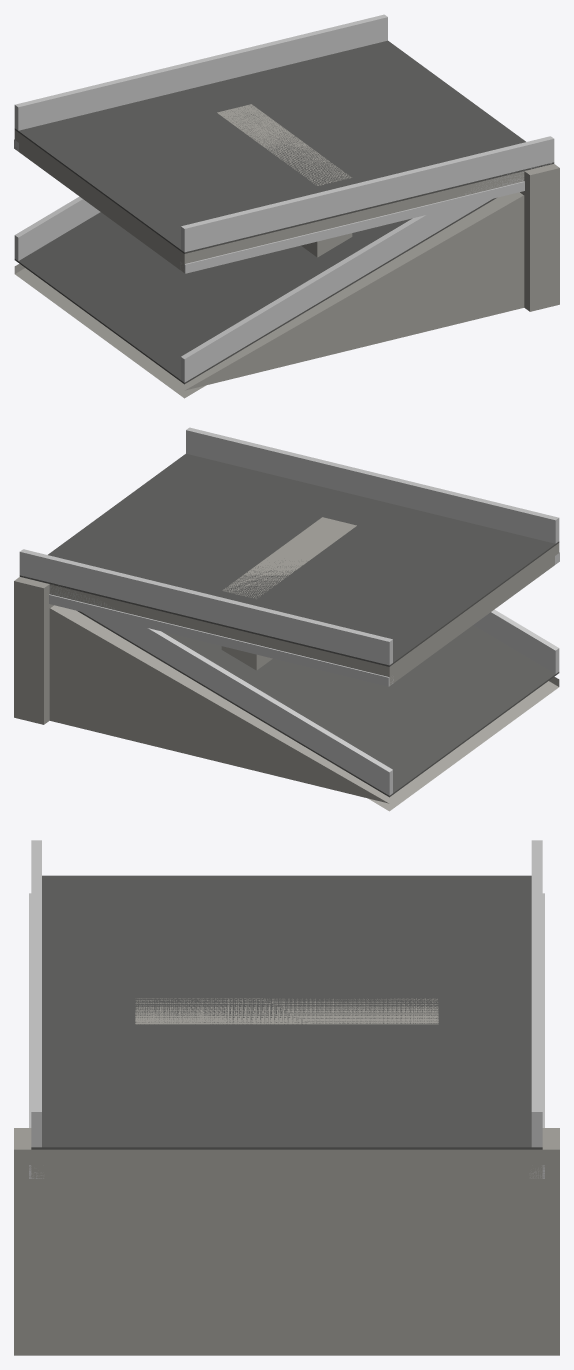
Rendered from most_betonovy.glb.
The picture shows the model from 3 angles, top to bottom: view 1: azimuth 30°, elevation 25°; view 2: azimuth 150°, elevation 25°; view 3: azimuth 270°, elevation 25°; orthographic projection. The views are drawn at different scales.
Visible parts, largest first — view 1: stred, hlava, pilir; view 2: stred, hlava, pilir; view 3: stred, hlava, pilir.
Part boxes in pixels (bbox=[...]): stred: bbox=[14, 14, 554, 273]; hlava: bbox=[14, 18, 559, 398]; pilir: bbox=[217, 104, 352, 257]; stred: bbox=[19, 427, 559, 686]; hlava: bbox=[14, 431, 559, 811]; pilir: bbox=[221, 517, 356, 670]; stred: bbox=[29, 840, 544, 1178]; hlava: bbox=[14, 1128, 559, 1355]; pilir: bbox=[135, 998, 438, 1024].
Size of the model in its own units: 14.84 by 6.5 by 12.6.
1 material, 1 textured.
